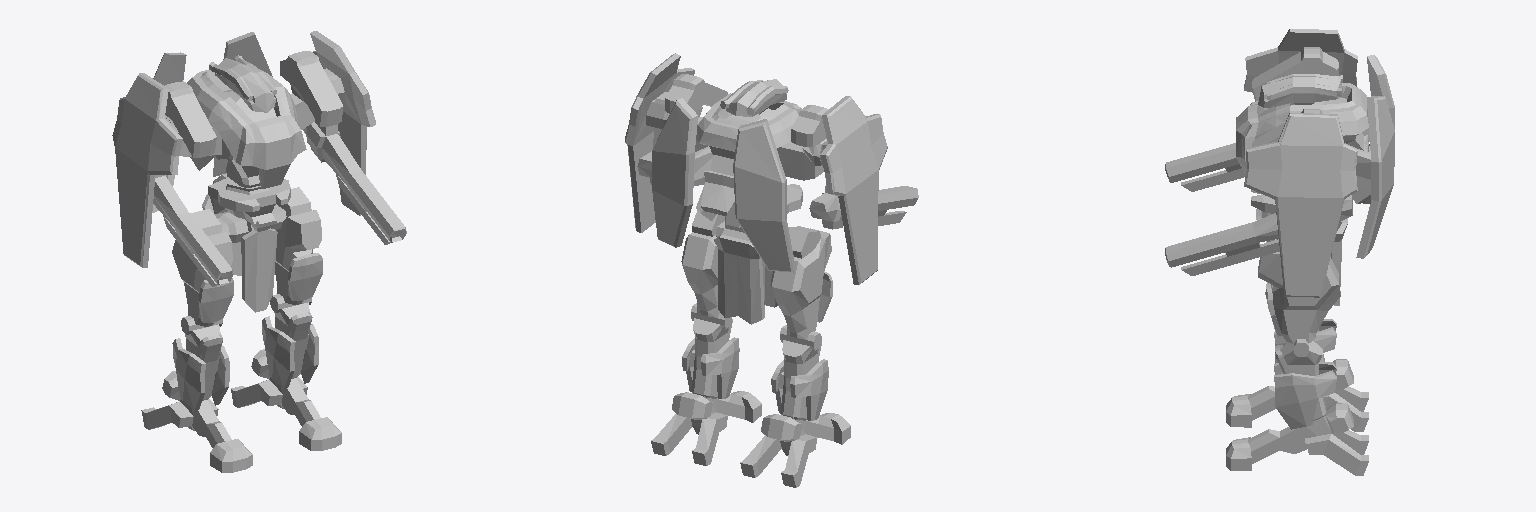
Rendered from mechscetch_unfinished.obj.
3 renders of one model, left to right at view 1: azimuth 30°, elevation 25°; view 2: azimuth 150°, elevation 25°; view 3: azimuth 270°, elevation 25°, orthographic.
Parts seen in each view (by area): view 1: leg_l_copy14, arm_r, leg_l_copy10, torso, arm_r_copy13, pelvis, shoulder_r_copy12, shoulder_r, head; view 2: torso, leg_l_copy10, leg_l_copy14, arm_r, arm_r_copy13, pelvis, shoulder_r, head, shoulder_r_copy12; view 3: arm_r_copy13, leg_l_copy14, torso, arm_r, leg_l_copy10, head, shoulder_r, pelvis.
Part boxes in pixels (left/top/right/bottom): leg_l_copy14: left=231, top=187, right=341, bottom=450; arm_r: left=112, top=73, right=232, bottom=286; leg_l_copy10: left=141, top=209, right=252, bottom=472; torso: left=152, top=32, right=306, bottom=212; arm_r_copy13: left=303, top=31, right=406, bottom=244; pelvis: left=202, top=173, right=290, bottom=312; shoulder_r_copy12: left=280, top=51, right=343, bottom=129; shoulder_r: left=165, top=81, right=221, bottom=157; head: left=209, top=55, right=276, bottom=112; torso: left=652, top=93, right=801, bottom=272; leg_l_copy10: left=740, top=226, right=850, bottom=487; leg_l_copy14: left=651, top=210, right=761, bottom=465; arm_r: left=809, top=96, right=918, bottom=284; arm_r_copy13: left=625, top=53, right=704, bottom=232; pelvis: left=714, top=184, right=802, bottom=324; shoulder_r: left=777, top=105, right=828, bottom=180; head: left=720, top=79, right=788, bottom=116; shoulder_r_copy12: left=665, top=74, right=727, bottom=151; arm_r_copy13: left=1165, top=113, right=1357, bottom=297; leg_l_copy14: left=1226, top=252, right=1368, bottom=475; torso: left=1236, top=55, right=1394, bottom=258; arm_r: left=1165, top=29, right=1357, bottom=191; leg_l_copy10: left=1226, top=239, right=1368, bottom=431; head: left=1258, top=74, right=1342, bottom=107; shoulder_r: left=1252, top=47, right=1338, bottom=101; pelvis: left=1251, top=190, right=1347, bottom=305.
Size of the model in its own units: 12.46 by 19.48 by 10.99.